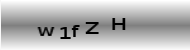1: (58, 26, 71, 40)
H: (110, 17, 127, 31)
Z: (84, 20, 100, 35)
f: (70, 22, 80, 38)
w: (36, 25, 54, 36)
